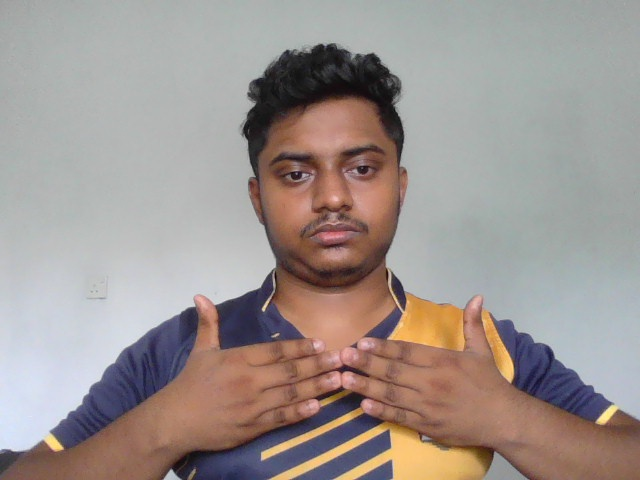Thank You: (180, 287, 509, 469)
